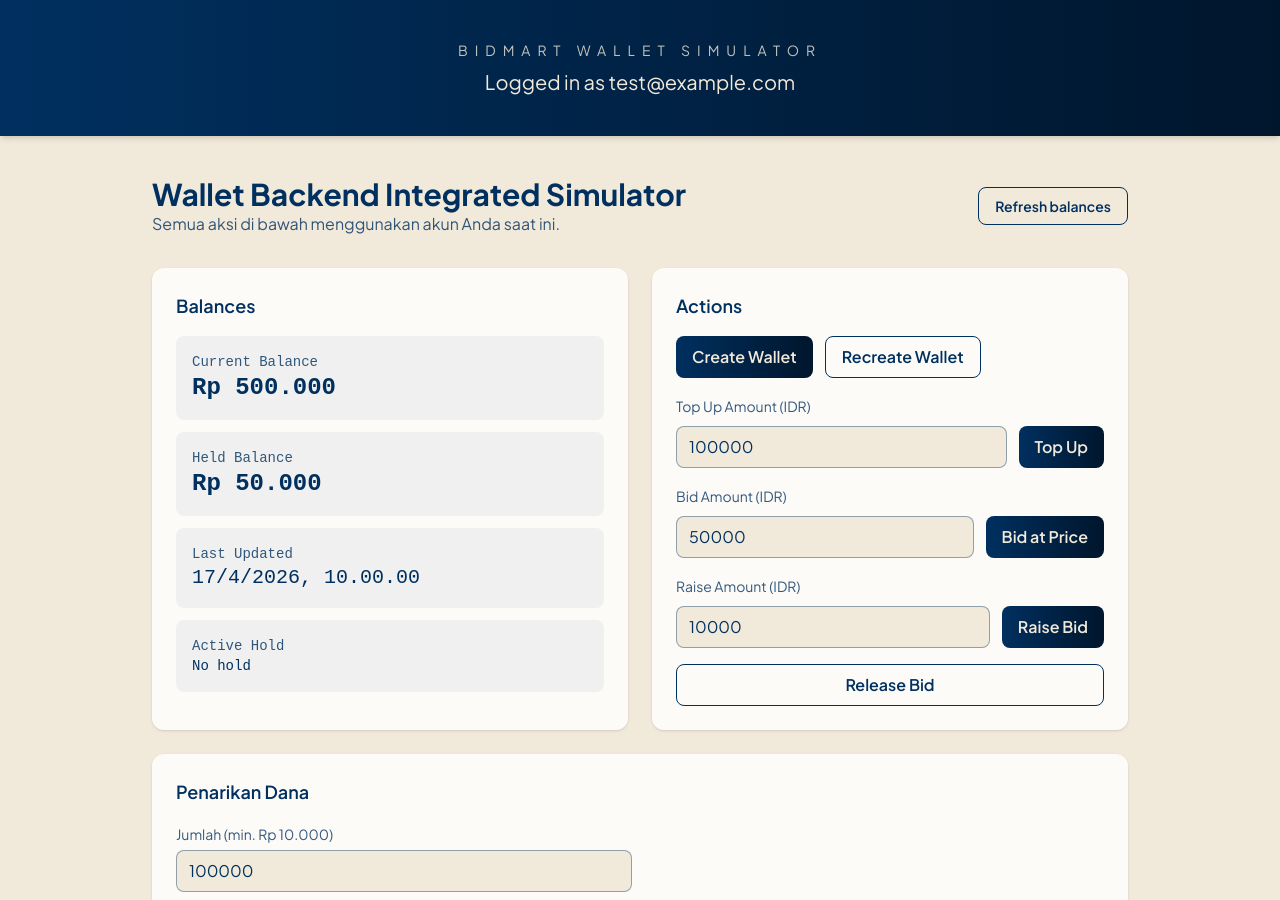
Test: WalletPage – top up handler › top up API error shows error in status
Click the button "Top Up" at (1061, 447), box [1018,426,1104,468]
(page scrolled)
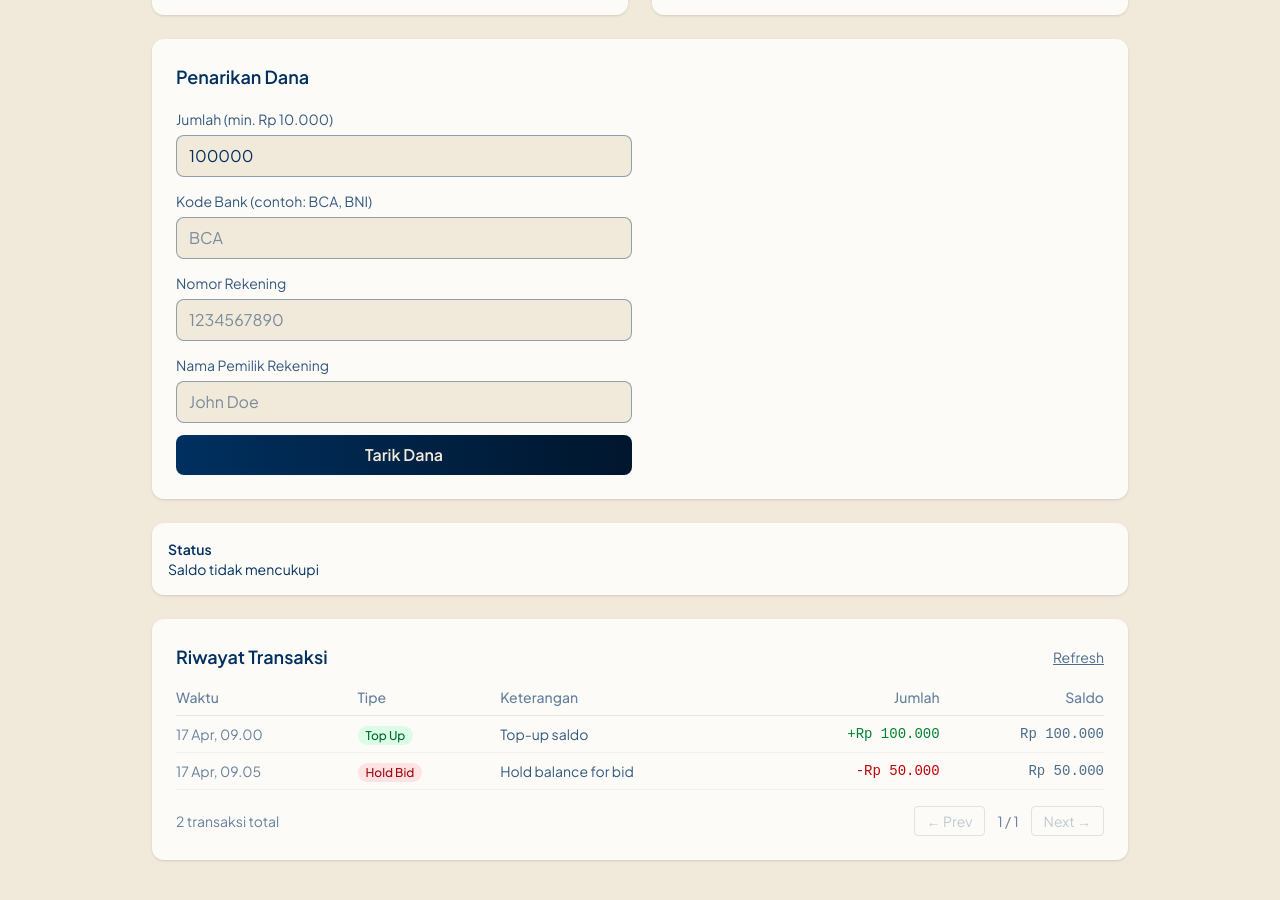
Now the text "Saldo tidak mencukupi" is shown, box [168,560,319,578]
